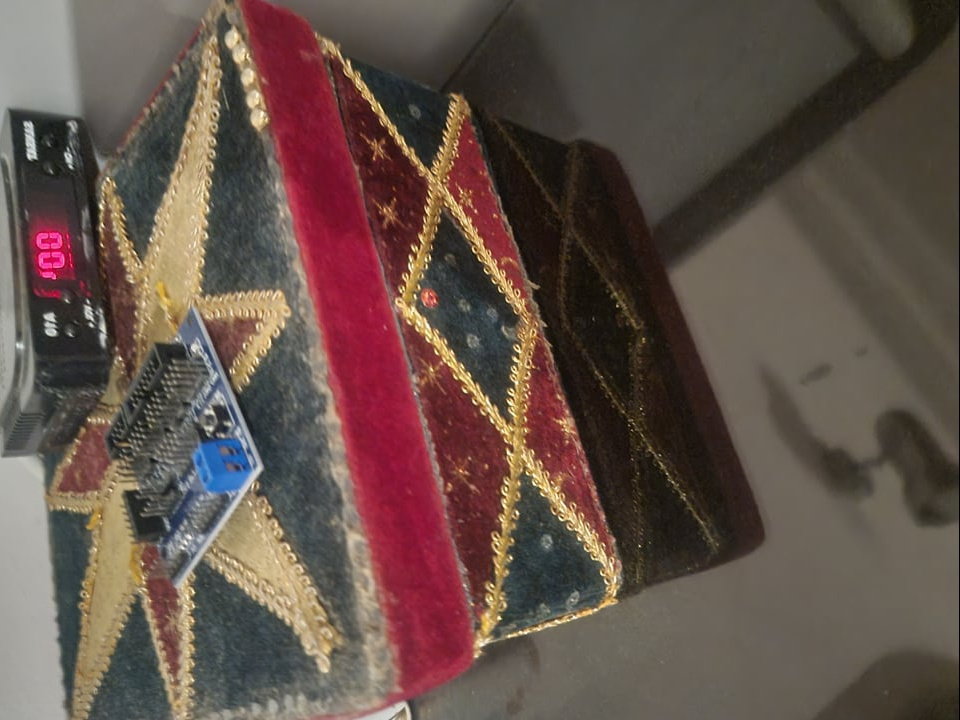5V EXPANSION: (107, 304, 267, 586)
